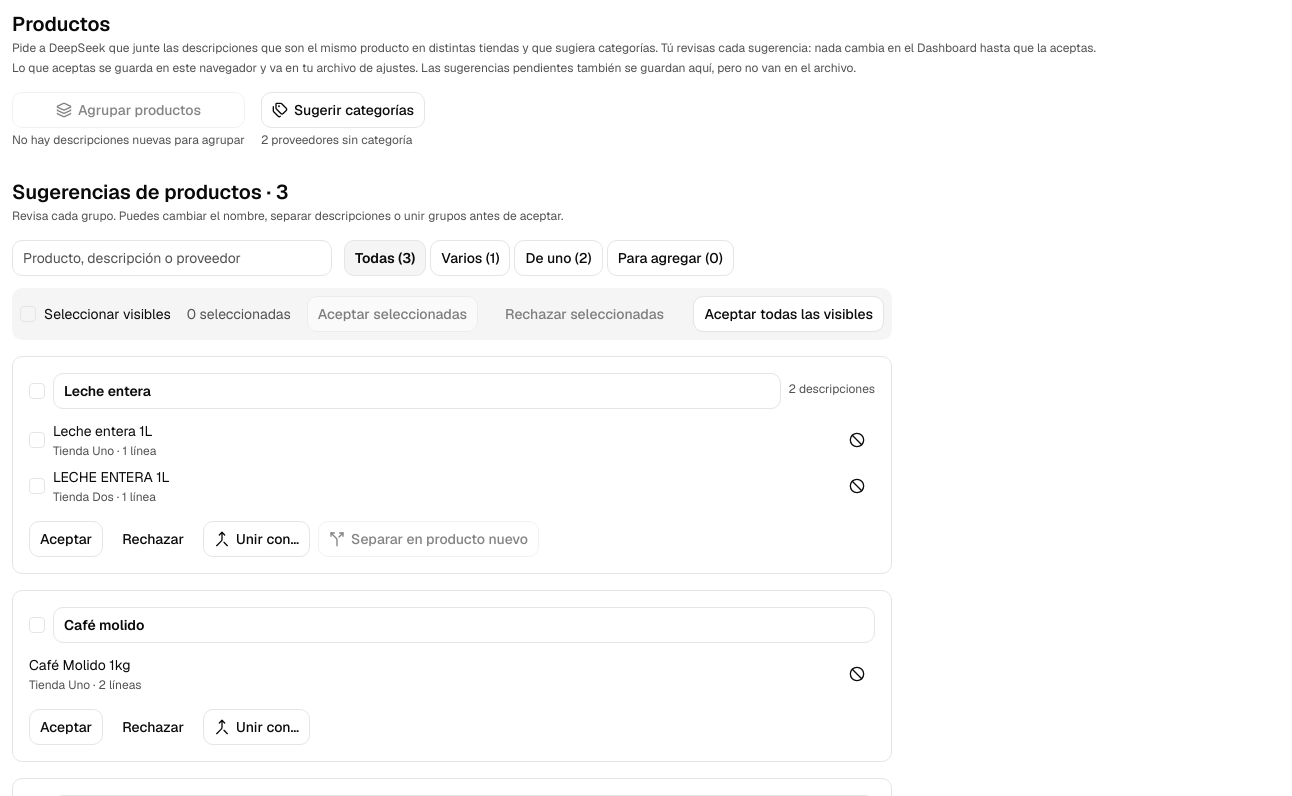
Scenario: filters and search (D-20, E4) › explains an empty result with the typed text, and without text when only the filter is empty
This screenshot has width=1292, height=796.
Type "  zzz " into the search field named "Buscar sugerencia".
click(172, 258); type("  zzz ")  # box [12,240,332,276]
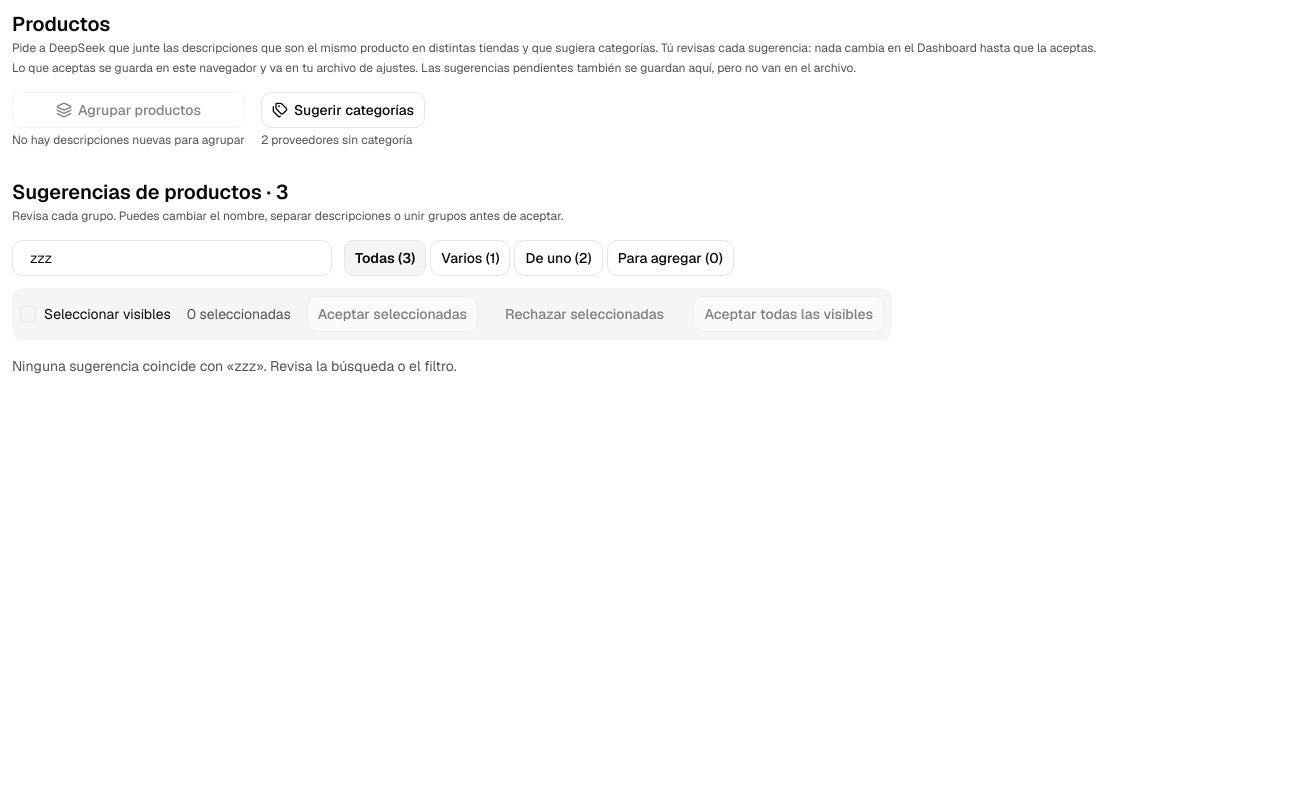
expect the text "Ninguna sugerencia coincide con «zzz». Revisa la búsqueda o el filtro." is shown: met, box [12,357,457,375]
Clear the search field named "Buscar sugerencia" at {"x": 172, "y": 258}, box [12,240,332,276]
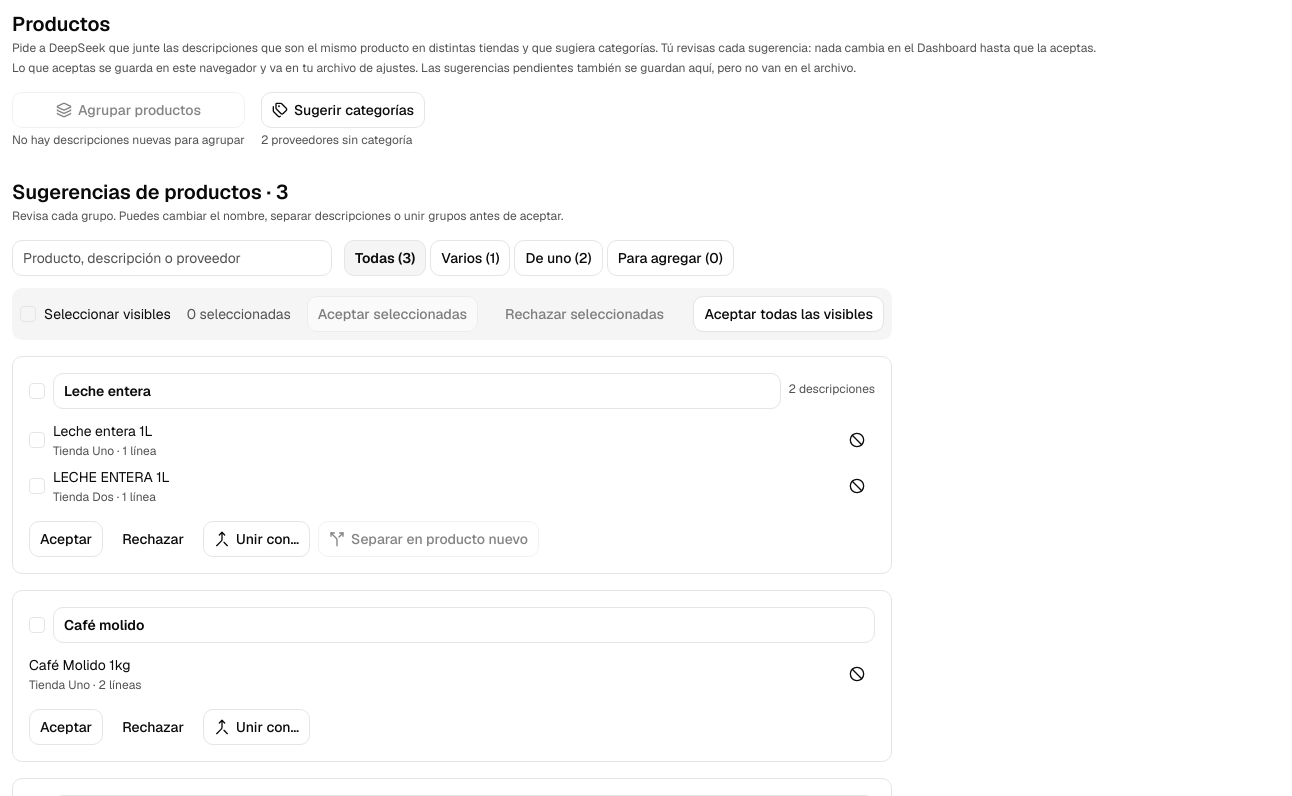
Click the button "Para agregar (0)".
click(670, 258)  # box [607,240,734,276]
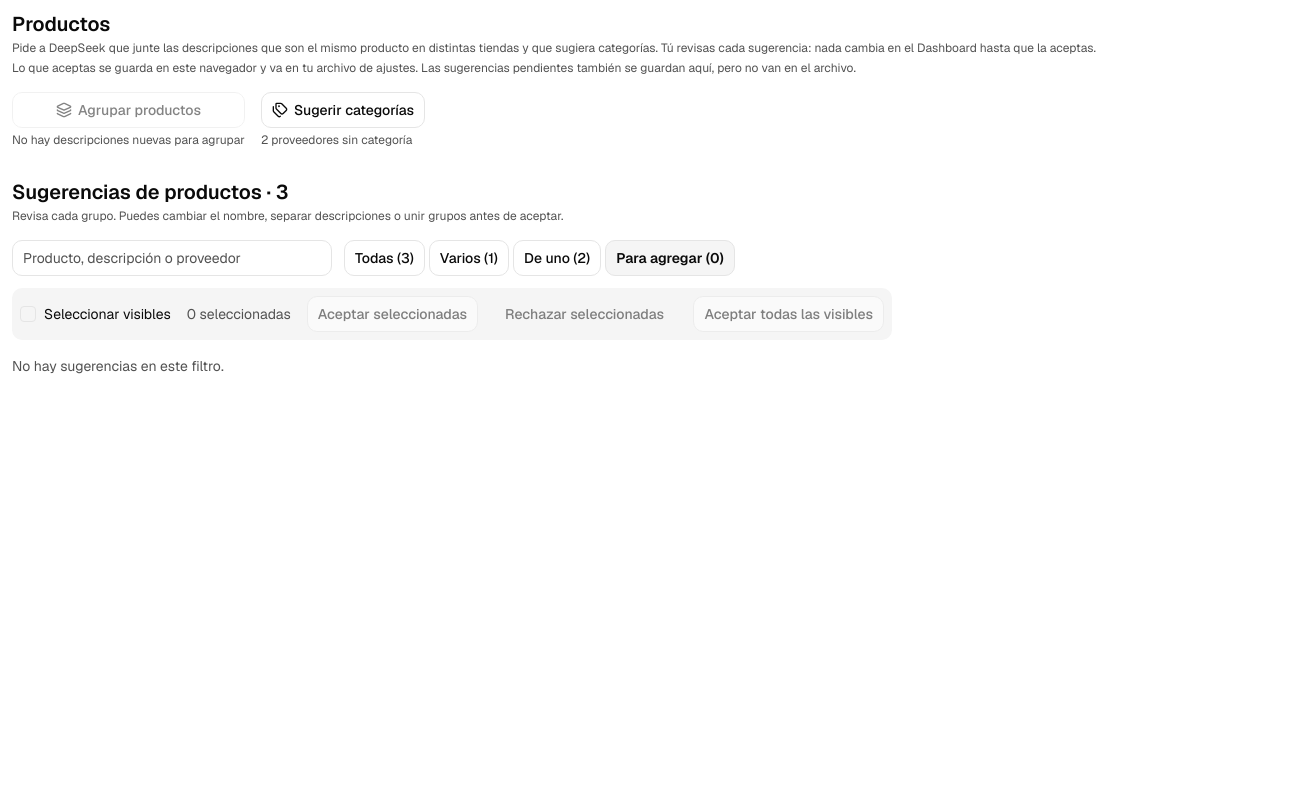
expect the text "No hay sugerencias en este filtro." is shown: met, box [12,357,224,375]
